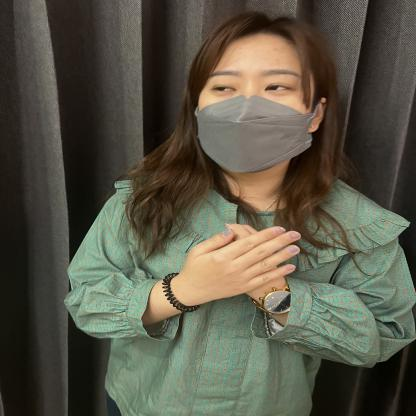Grieve: (76, 169, 406, 349)
